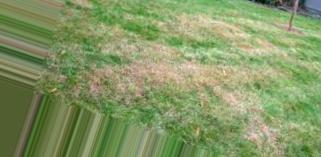patch: (115, 64, 164, 80), (224, 92, 260, 110), (248, 121, 276, 143), (190, 21, 231, 36), (244, 37, 275, 54), (184, 64, 219, 78)
